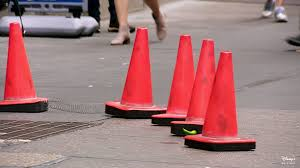cones: (189, 49, 258, 152), (102, 26, 165, 118), (1, 21, 49, 113), (179, 40, 217, 137), (158, 32, 198, 122)
